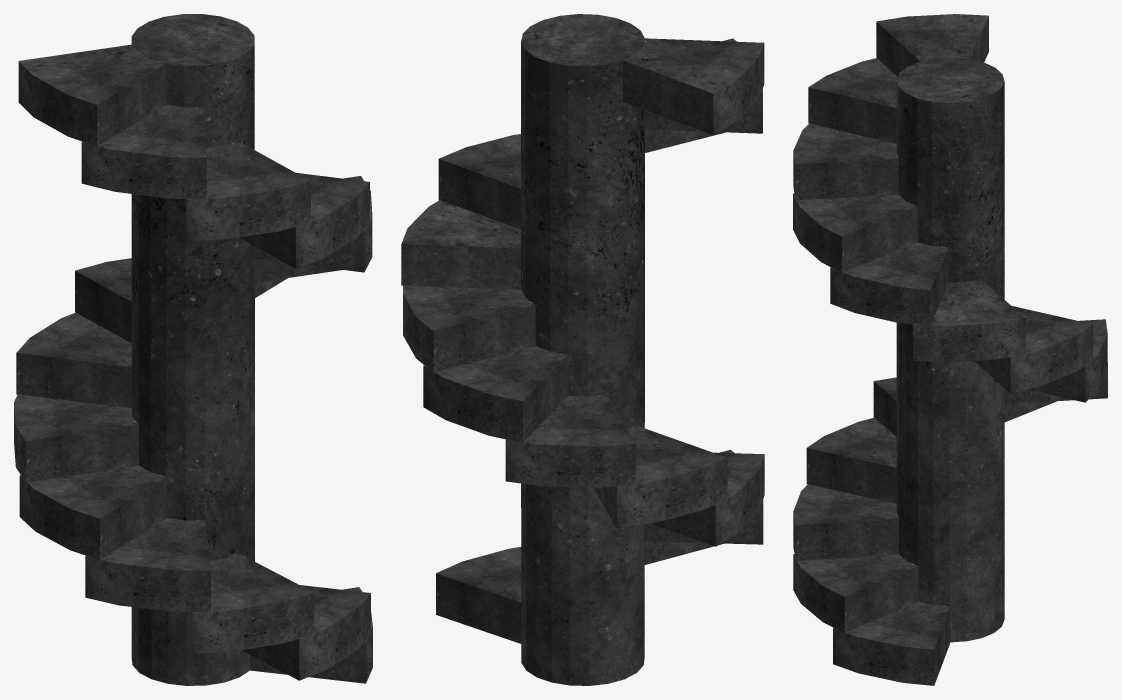
File: Spiral StairsOpen.fbx
The picture shows the model from 3 angles, left to right: view 1: azimuth 30°, elevation 25°; view 2: azimuth 150°, elevation 25°; view 3: azimuth 270°, elevation 25°; orthographic projection. The views are drawn at different scales.
Visible parts, largest first — view 1: Spiral_Stairs; view 2: Spiral_Stairs; view 3: Spiral_Stairs.
Boxes of the visible parts, left/top/right/bottom form: Spiral_Stairs: left=14, top=14, right=372, bottom=685; Spiral_Stairs: left=401, top=14, right=764, bottom=685; Spiral_Stairs: left=793, top=14, right=1107, bottom=685.
Size of the model in its own units: 0.0262 by 0.0496 by 0.0262.
